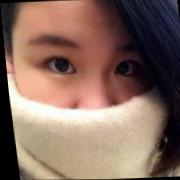WRONG: (8, 17, 170, 178)
